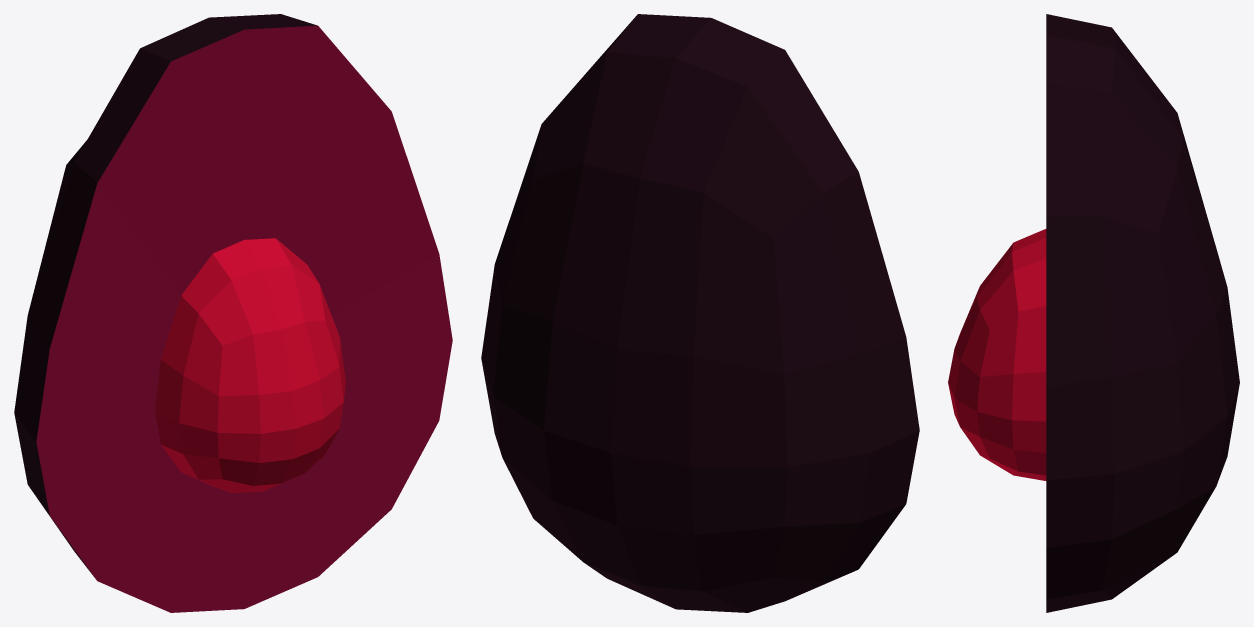
File: Avocado_01.fbx
The picture shows the model from 3 angles, left to right: view 1: azimuth 30°, elevation 25°; view 2: azimuth 150°, elevation 25°; view 3: azimuth 270°, elevation 25°; orthographic projection. The views are drawn at different scales.
Visible parts, largest first — view 1: Avocado_01; view 2: Avocado_01; view 3: Avocado_01.
Boxes of the visible parts, box(x1,y1,x2,y2) form: Avocado_01: box(14, 14, 452, 612); Avocado_01: box(481, 14, 919, 612); Avocado_01: box(948, 14, 1239, 612).
Bounding box in the file's own units: 5.42 × 7.21 × 3.43.
